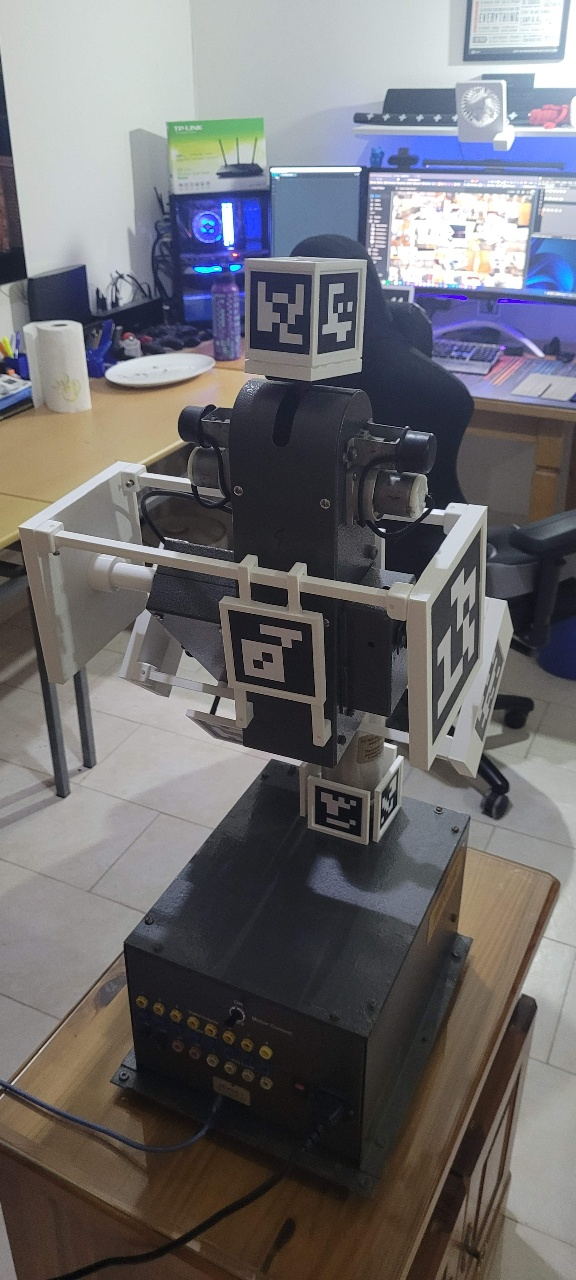Robot: (17, 257, 515, 847)
